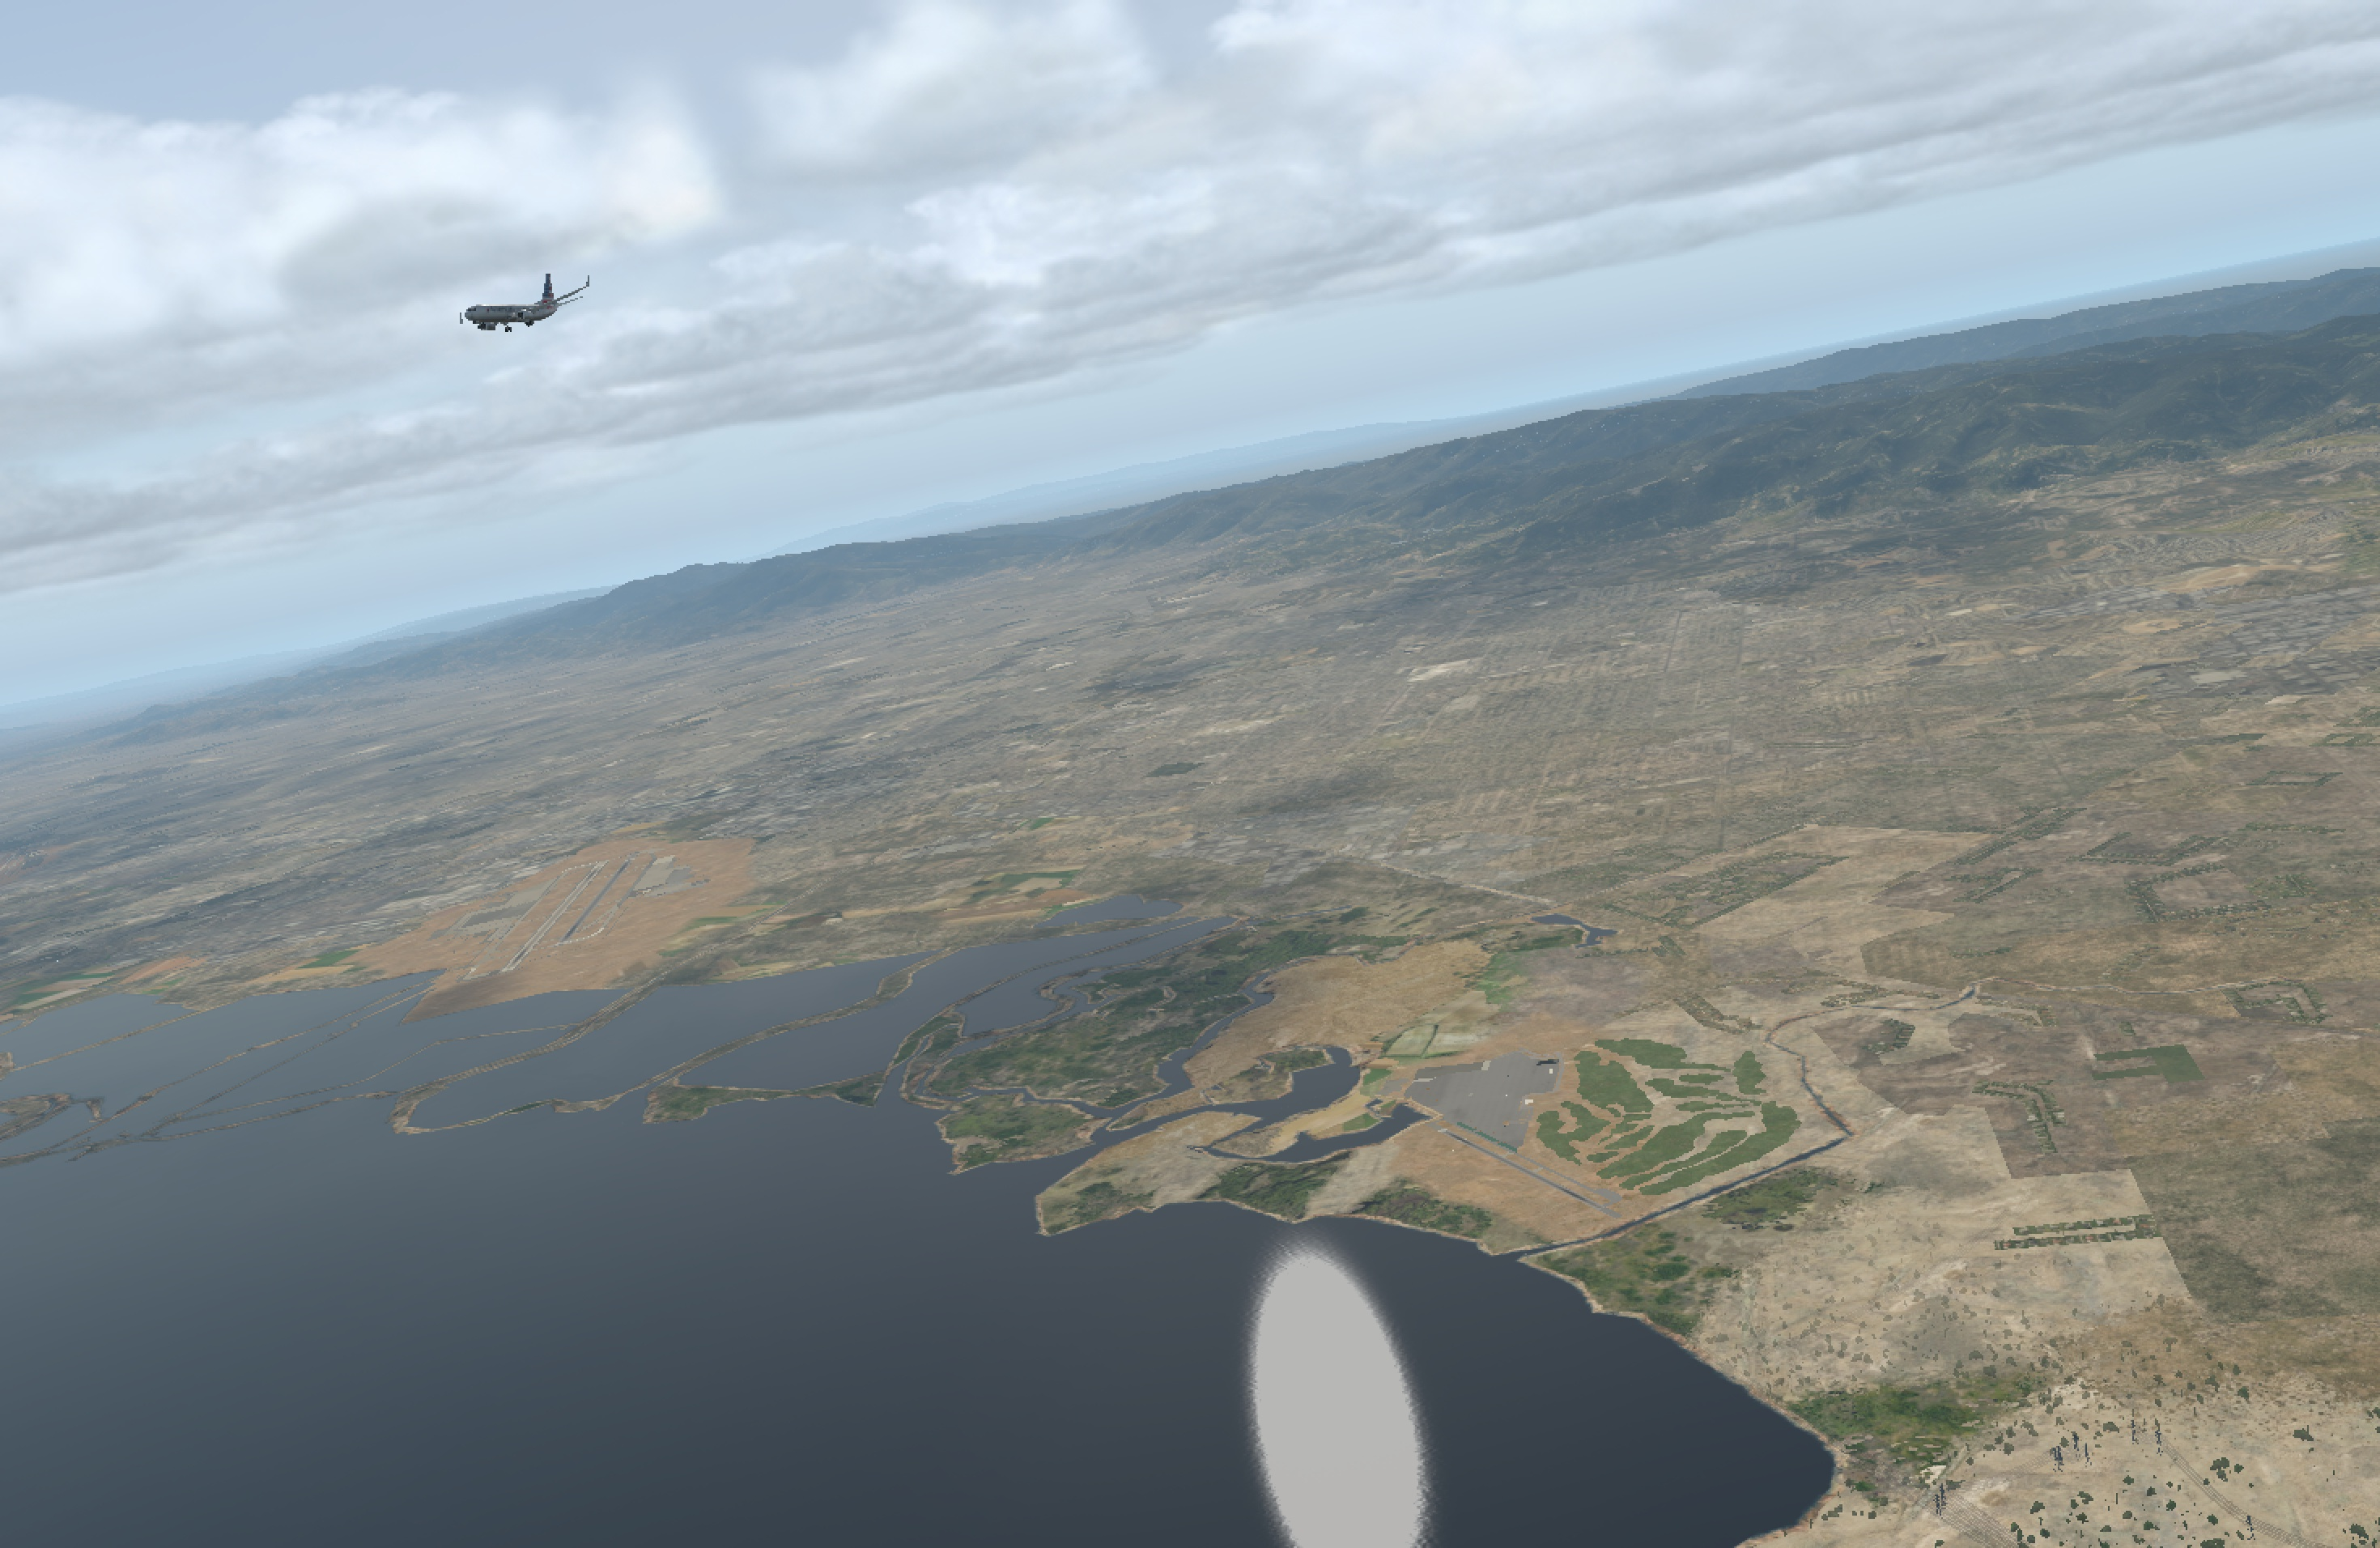aircraft: (432, 285, 593, 347)
